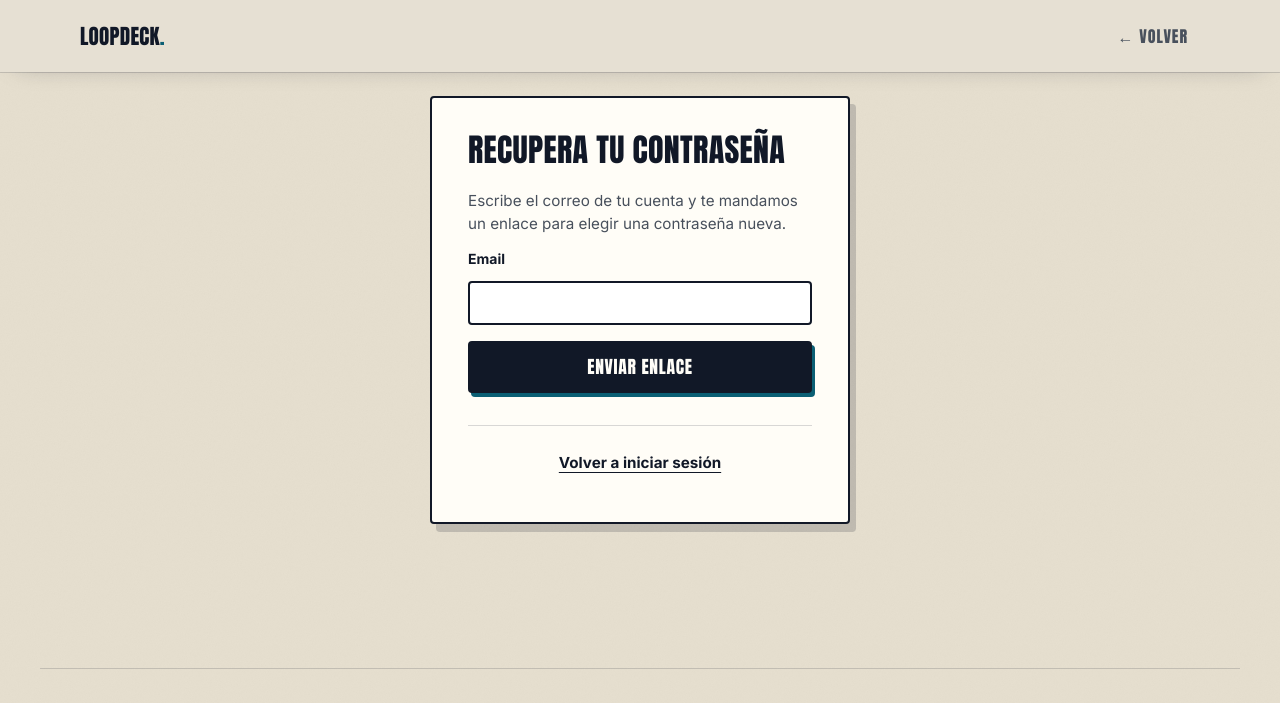
Test: ForgotPasswordPage › asks for the email and shows the same neutral confirmation
Type "  ana@example.com " into the field labelled "Email". click: {"x": 640, "y": 303}
box: [468,281,812,325]
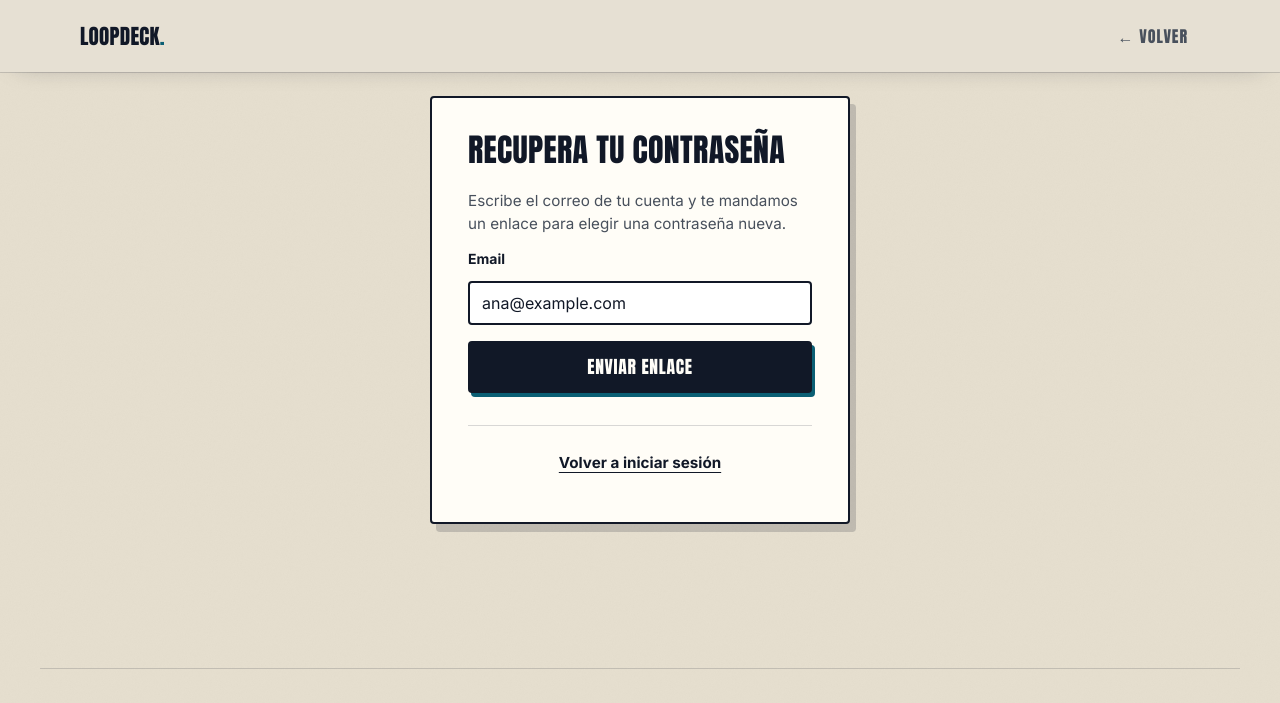
Click the button "Enviar enlace". click: {"x": 640, "y": 367}
box: [468,341,812,393]
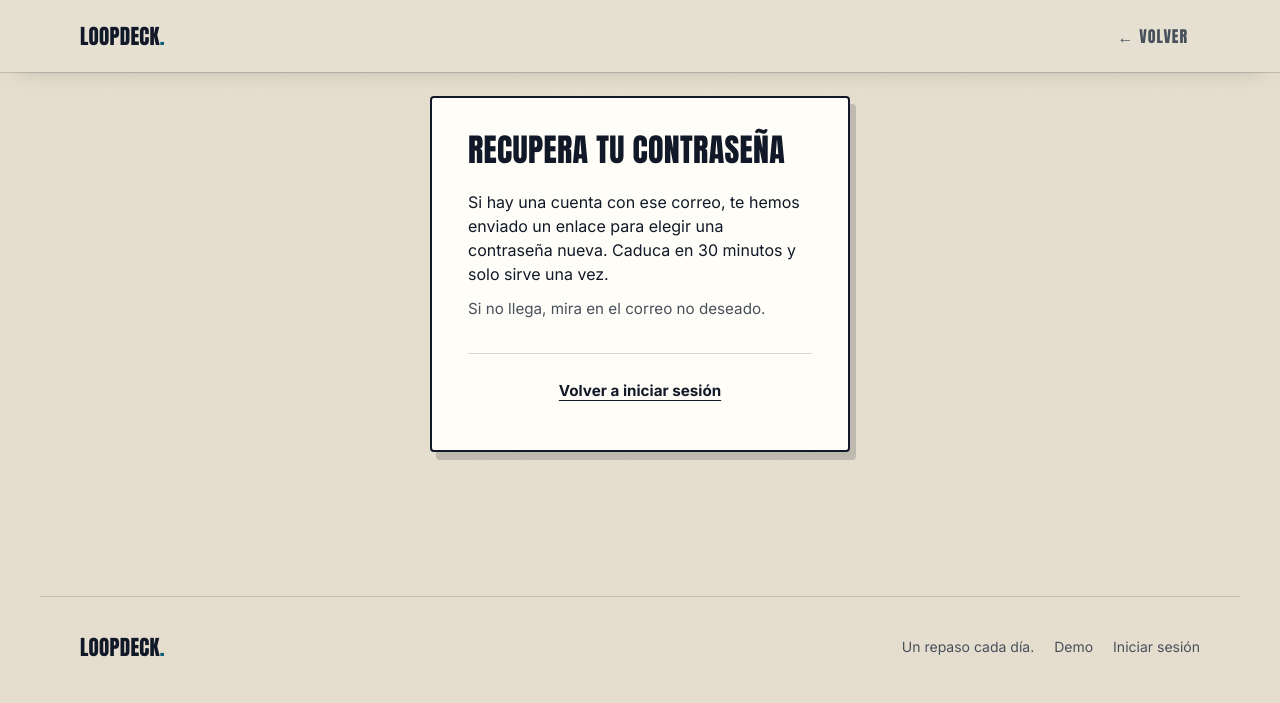
Check: the message shows "Si hay una cuenta con ese correo", box [468,192,800,284]
